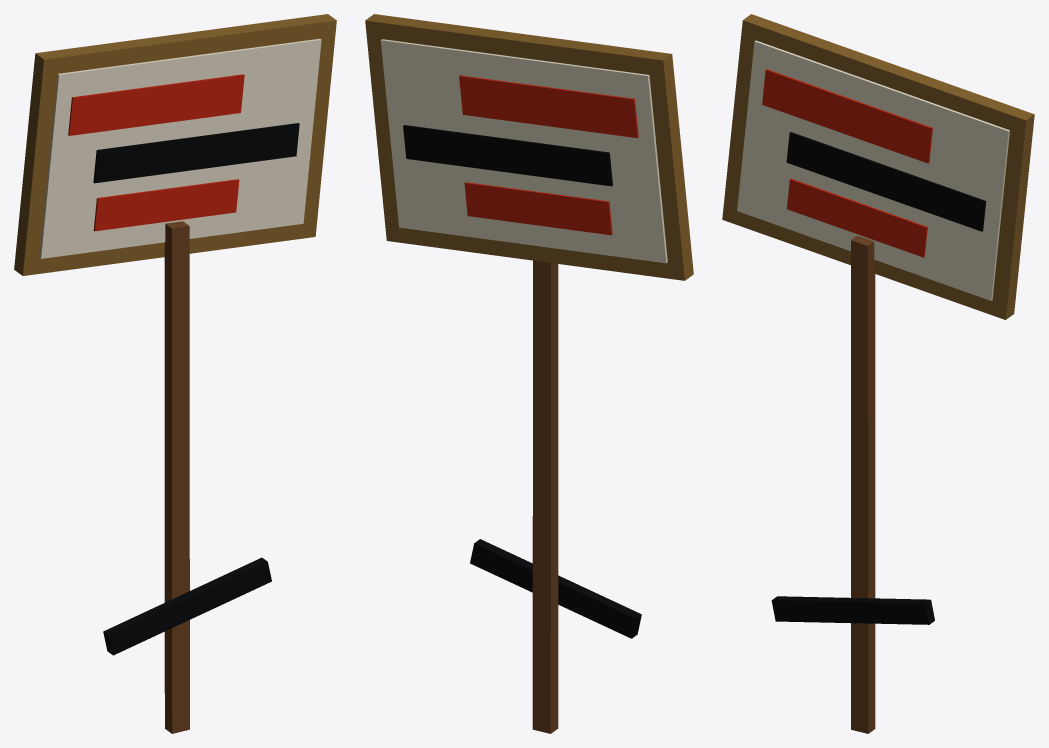
The model's file is placard.glb.
The picture shows the model from 3 angles, left to right: view 1: azimuth 30°, elevation 25°; view 2: azimuth 150°, elevation 25°; view 3: azimuth 330°, elevation 25°; orthographic projection. The views are drawn at different scales.
Parts seen in each view (by area): view 1: placard; view 2: placard; view 3: placard.
Part boxes in pixels (left/top/right/bottom): placard: left=14, top=14, right=336, bottom=733; placard: left=365, top=14, right=693, bottom=733; placard: left=722, top=14, right=1034, bottom=733.
Bounding box in the file's own units: 0.6186 × 1.31 × 0.099.
Materials: 1 (1 with a texture image).
